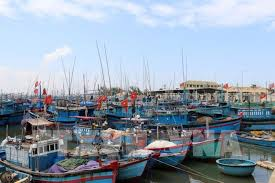tau_dansu: (8, 129, 118, 183), (175, 111, 249, 140), (139, 133, 188, 168)
